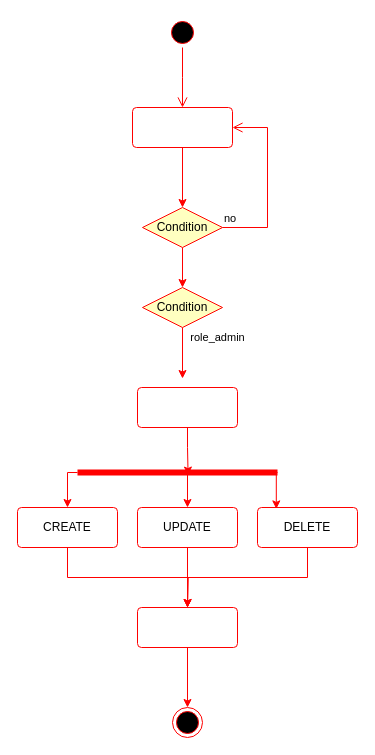
The diagram is 375 pixels wide and 755 high, and some of its shapes have lost their labels. The shapes that lost their labels are listed below. From the top down, each one's centre as x and y in pixels, then its label:
[182,127]: LOGIN
[187,407]: MANAGER INFORMATION STAFF
[187,627]: VIEW INFOMATION STAFF
